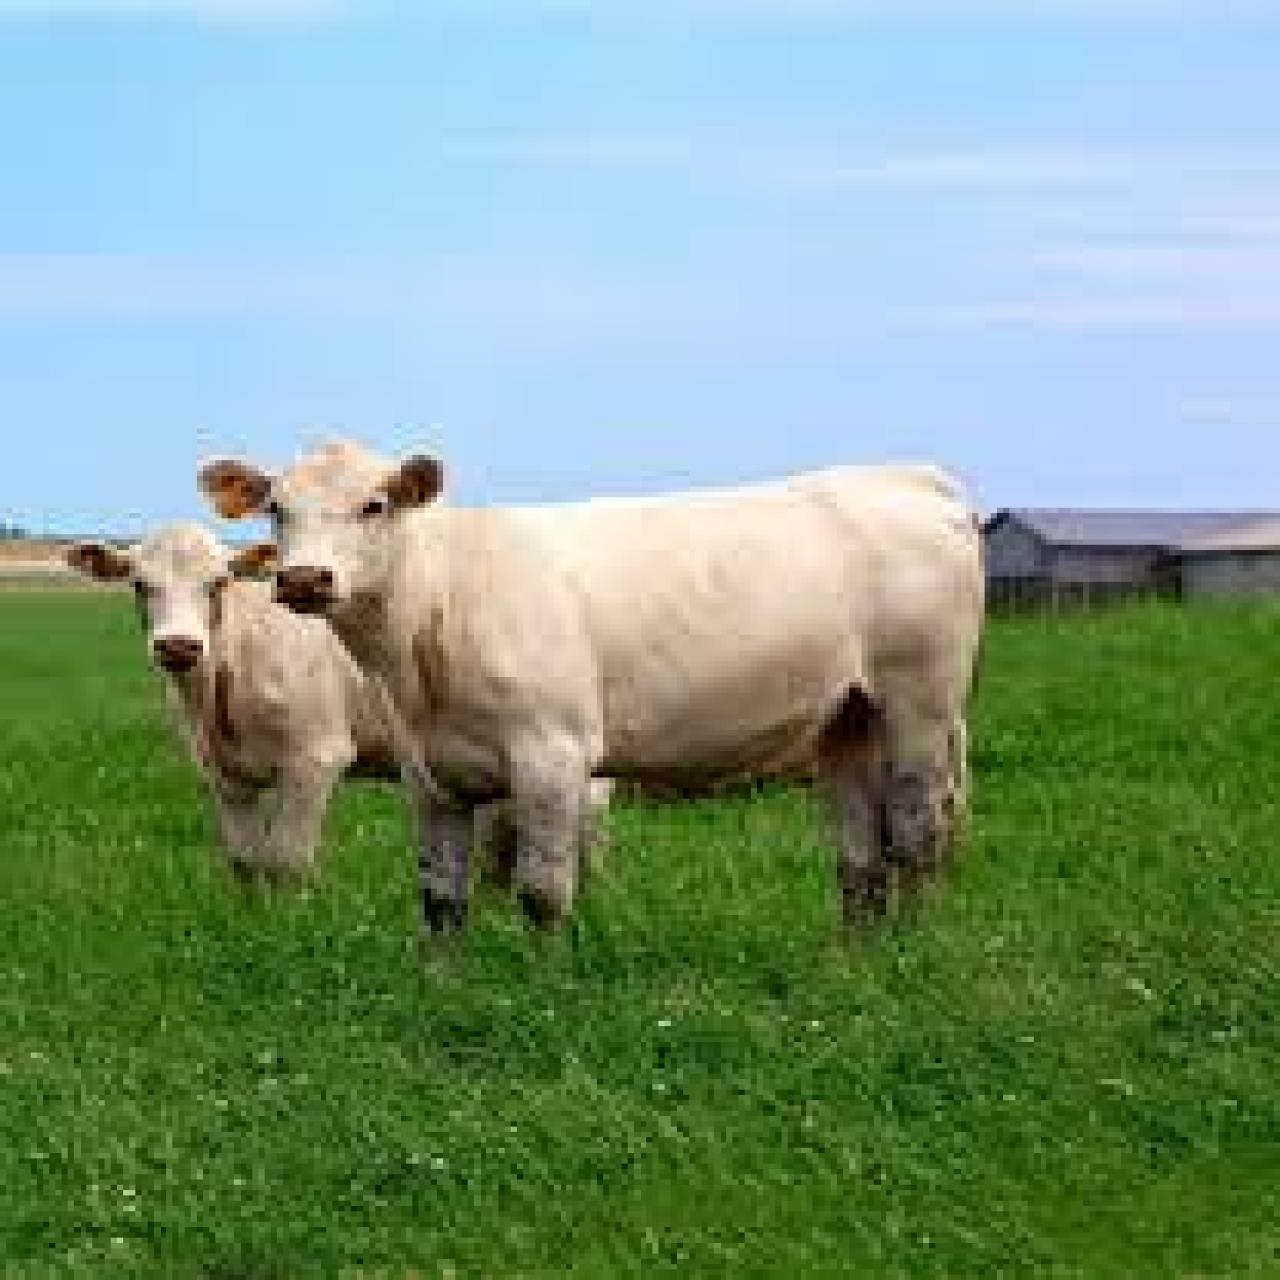cow: (200, 438, 982, 941), (64, 518, 434, 899)
